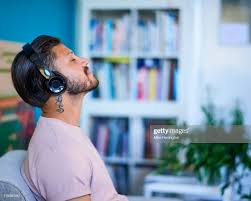Indian_Male: (42, 37, 105, 96)
